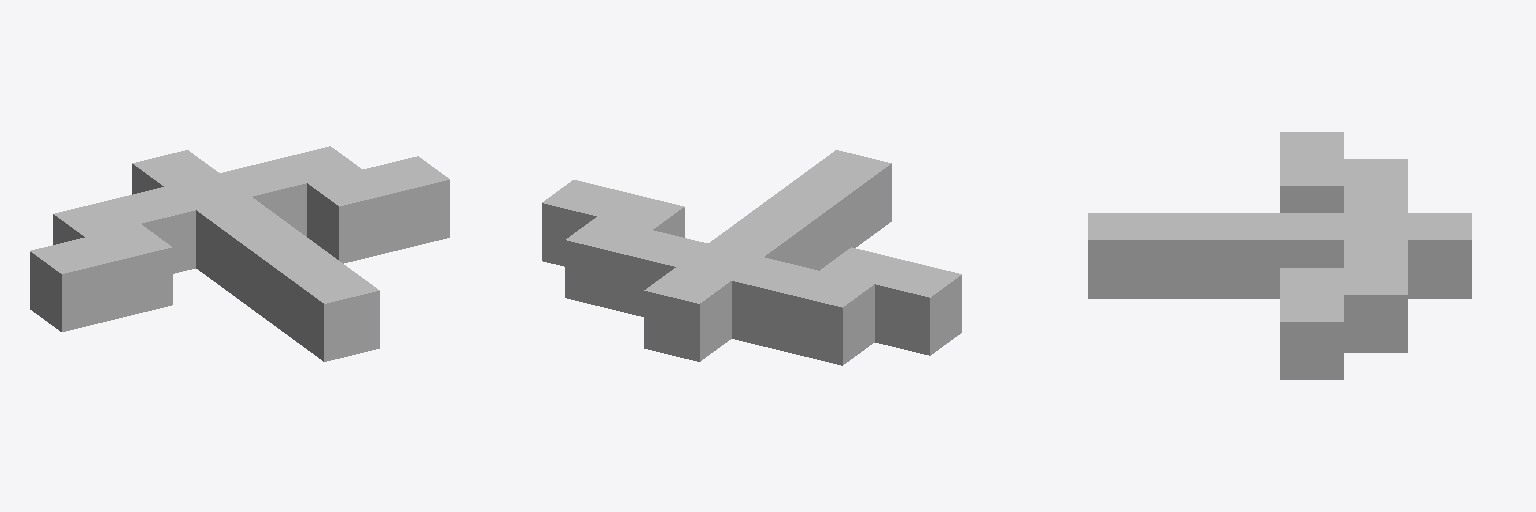
The model's file is Crossbow.obj.
The picture shows the model from 3 angles: view 1: azimuth 30°, elevation 25°; view 2: azimuth 150°, elevation 25°; view 3: azimuth 270°, elevation 25°; orthographic projection.
Parts seen in each view (by area): view 1: object 1; view 2: object 1; view 3: object 1.
Boxes of the visible parts, x1,y1,x2,y2 form: object 1: [30, 146, 449, 361]; object 1: [542, 150, 961, 365]; object 1: [1088, 132, 1471, 379].
Size of the model in its own units: 0.7 by 0.1 by 0.6.